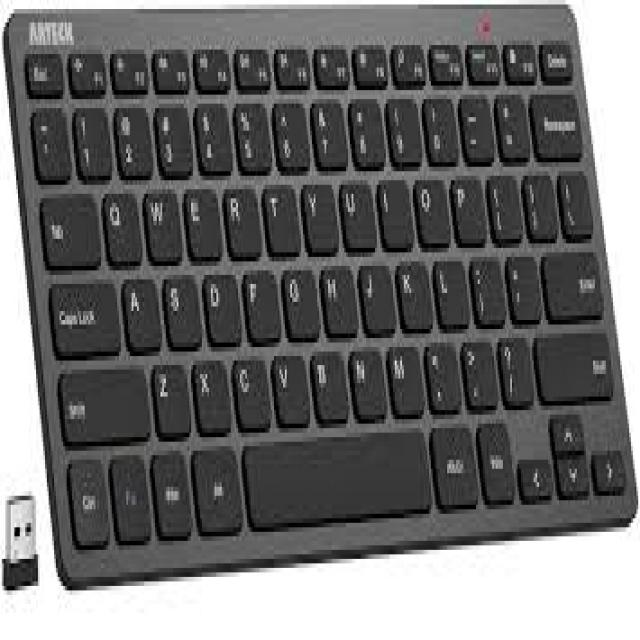others: (1, 4, 636, 640)
